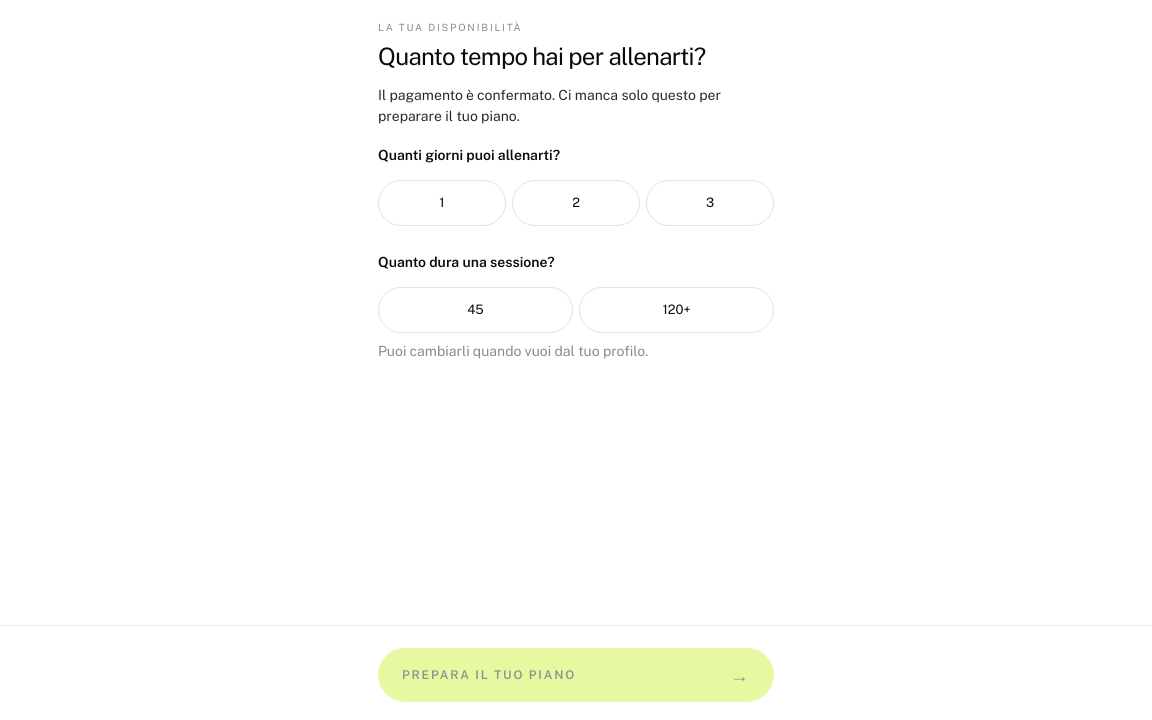
Test: Disponibilità prima del programma › recovers a paid athlete without availability and creates the plan without a new checkout
The width and height of the screenshot is (1152, 720).
Check: the heading "Quanto tempo hai per allenarti?" is shown, box [378,42,706,70]
What coordinates should you click on to do the following:
click the radio button named "2 giorni"
I would click on:
 (576, 203)
Its box is [512,180,640,226].
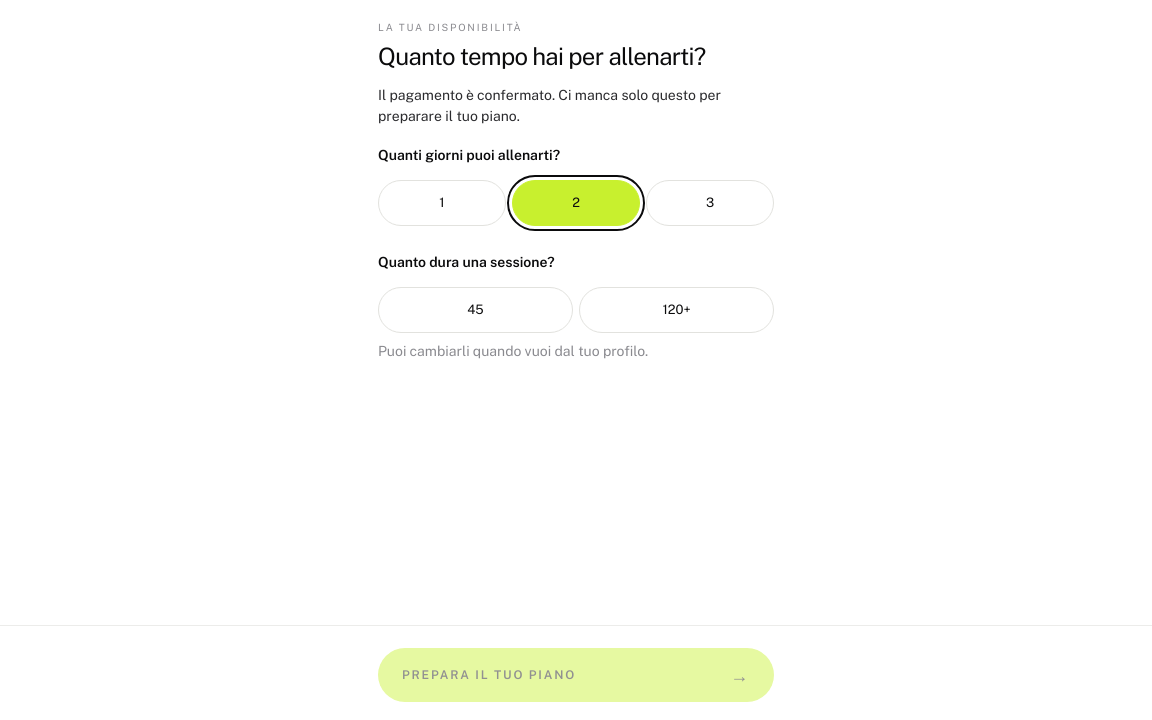
What coordinates should you click on to do the following:
click the radio button named "120+ minuti"
I would click on:
 (676, 310)
Its box is [579,287,774,333].
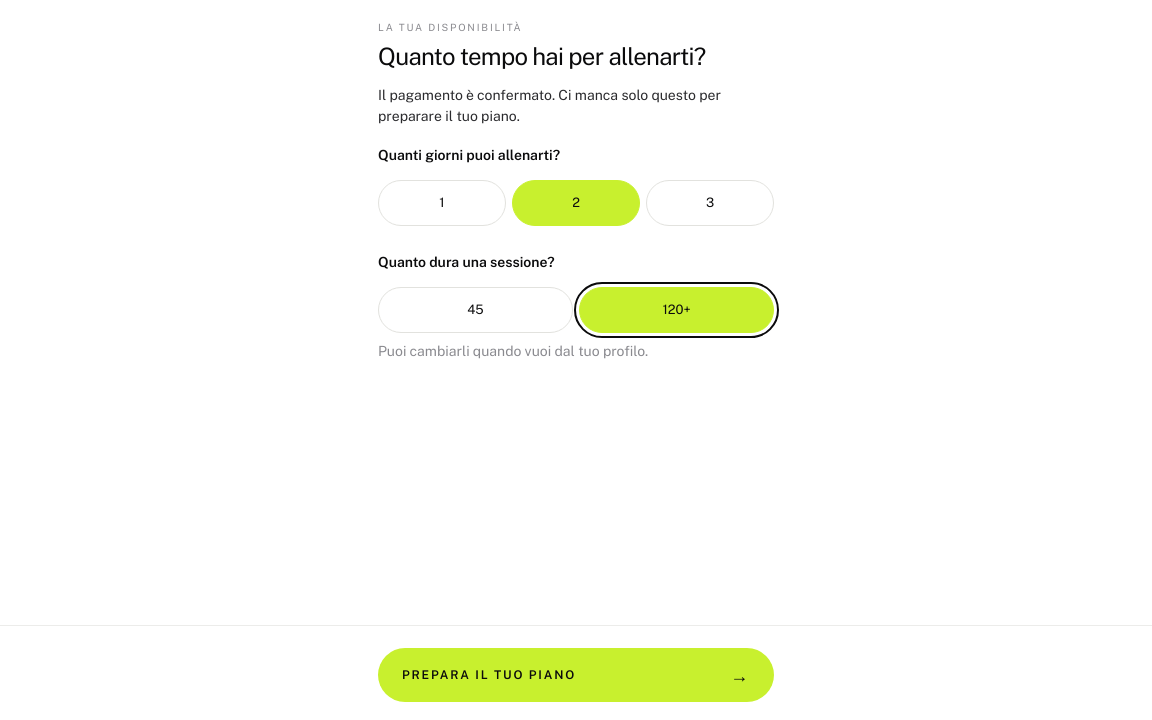
What coordinates should you click on to do the following:
click the button "Prepara il tuo piano →"
I would click on:
 (576, 675)
Its box is [378,648,774,702].
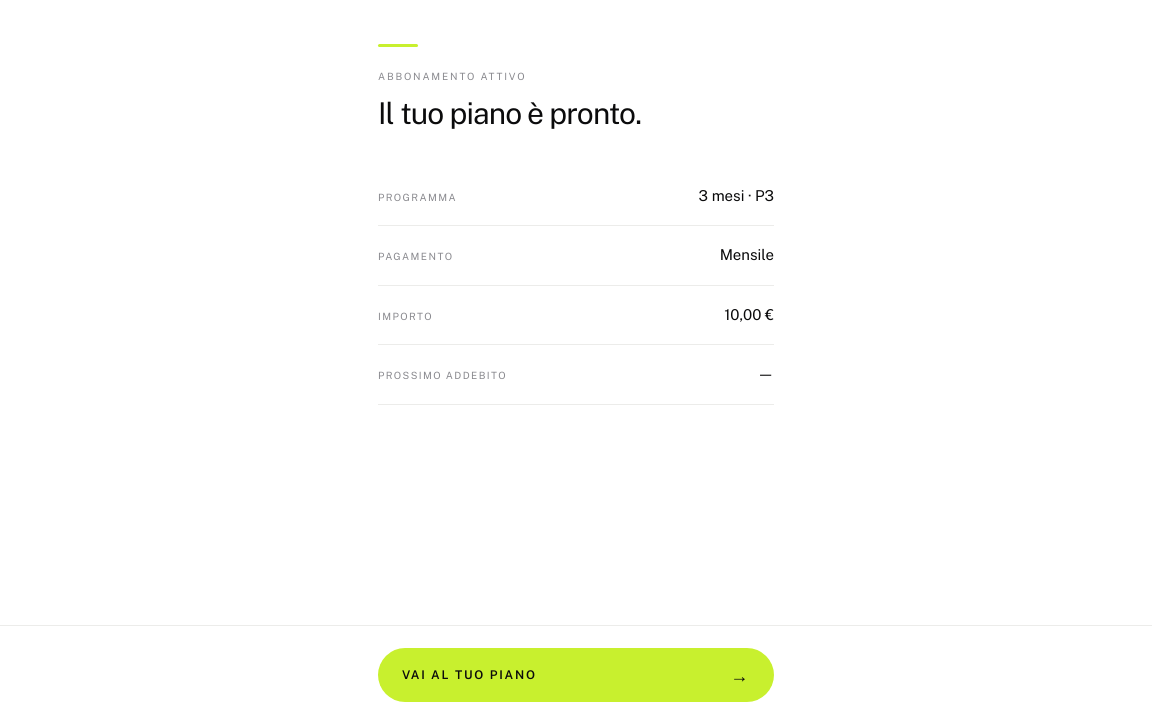
Check: the heading "Il tuo piano è pronto." is shown, box [378,95,641,131]
